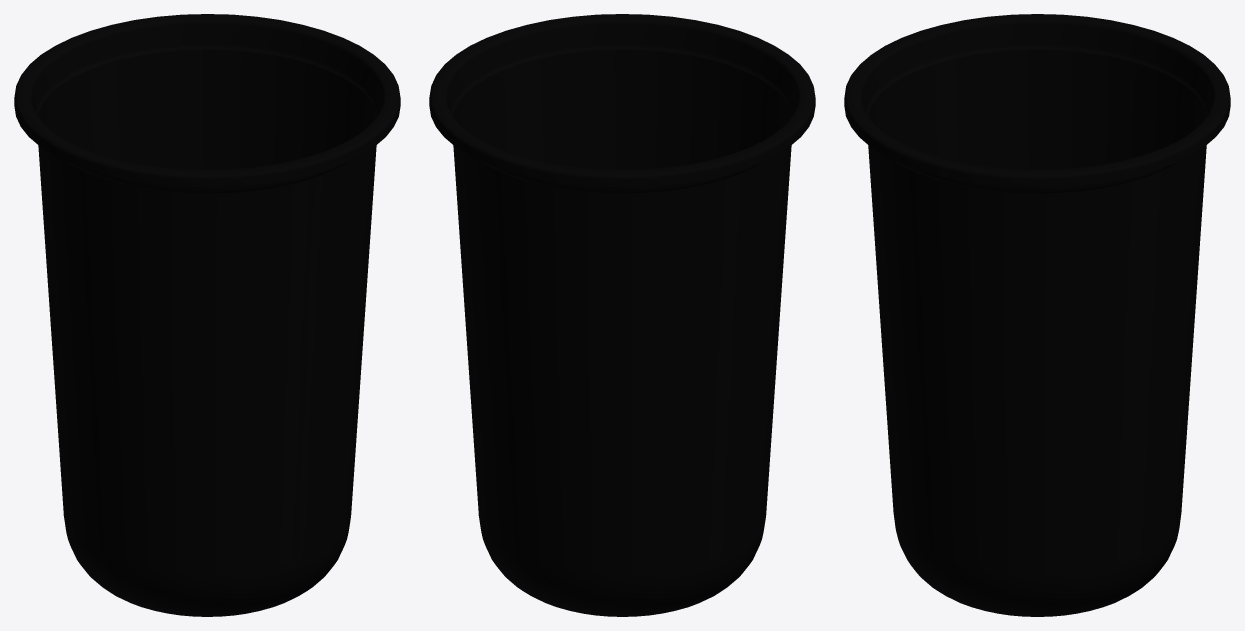
3 renders of one model, left to right at view 1: azimuth 30°, elevation 25°; view 2: azimuth 150°, elevation 25°; view 3: azimuth 270°, elevation 25°, orthographic.
Parts seen in each view (by area): view 1: models; view 2: models; view 3: models.
Part boxes in pixels (left/top/right/bottom): models: left=14, top=14, right=400, bottom=616; models: left=429, top=14, right=815, bottom=616; models: left=844, top=14, right=1230, bottom=616.
Bounding box in the file's own units: 0.092 × 0.1262 × 0.092.
1 material, 1 textured.
